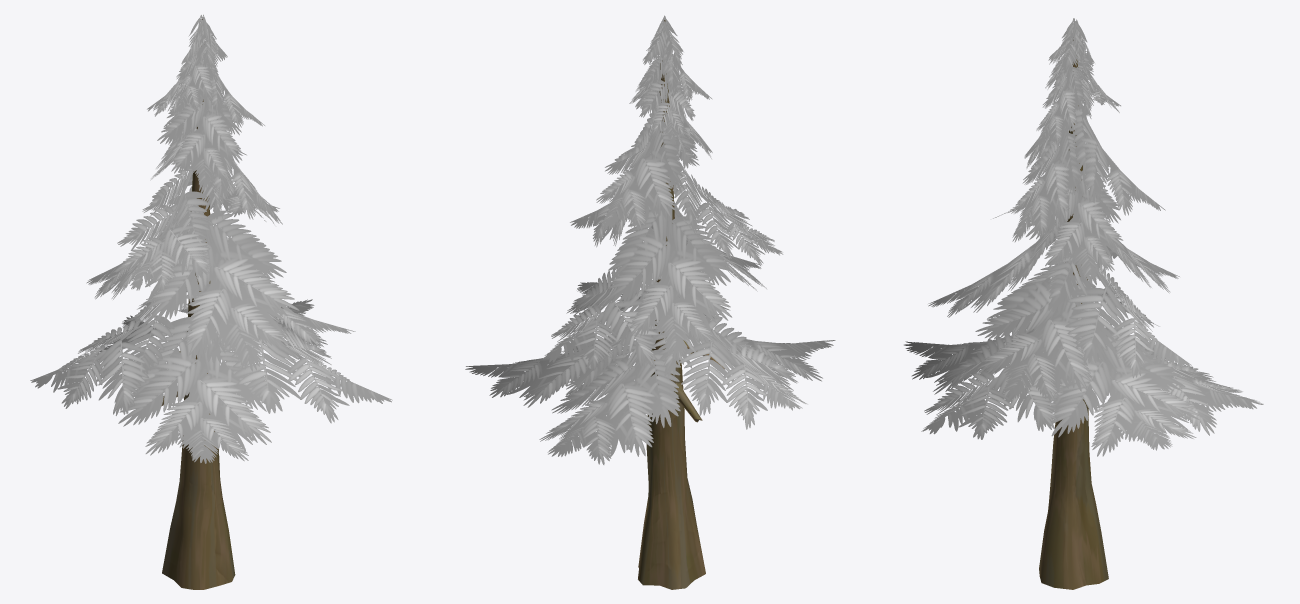
File: m_env_collect_tree_cedar_02.fbx
3 views of the same model, side by side, from view 1: azimuth 30°, elevation 25°; view 2: azimuth 150°, elevation 25°; view 3: azimuth 270°, elevation 25° (orthographic).
Parts seen in each view (by area): view 1: m_env_collect_tree_cedar_02; view 2: m_env_collect_tree_cedar_02; view 3: m_env_collect_tree_cedar_02.
Boxes of the visible parts, x1,y1,x2,y2 form: m_env_collect_tree_cedar_02: [30, 14, 392, 589]; m_env_collect_tree_cedar_02: [465, 15, 835, 589]; m_env_collect_tree_cedar_02: [904, 18, 1263, 589].
Bounding box in the file's own units: 352 × 552 × 358.
